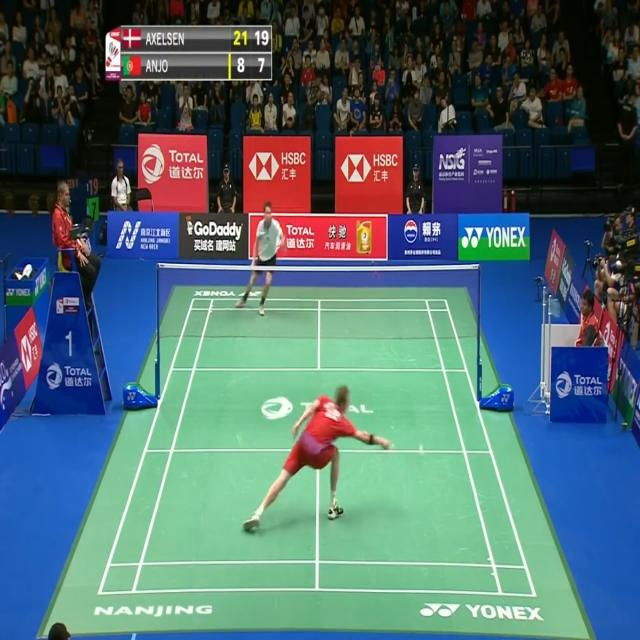Player1: (240, 371, 393, 536)
Player2: (238, 198, 284, 318)
